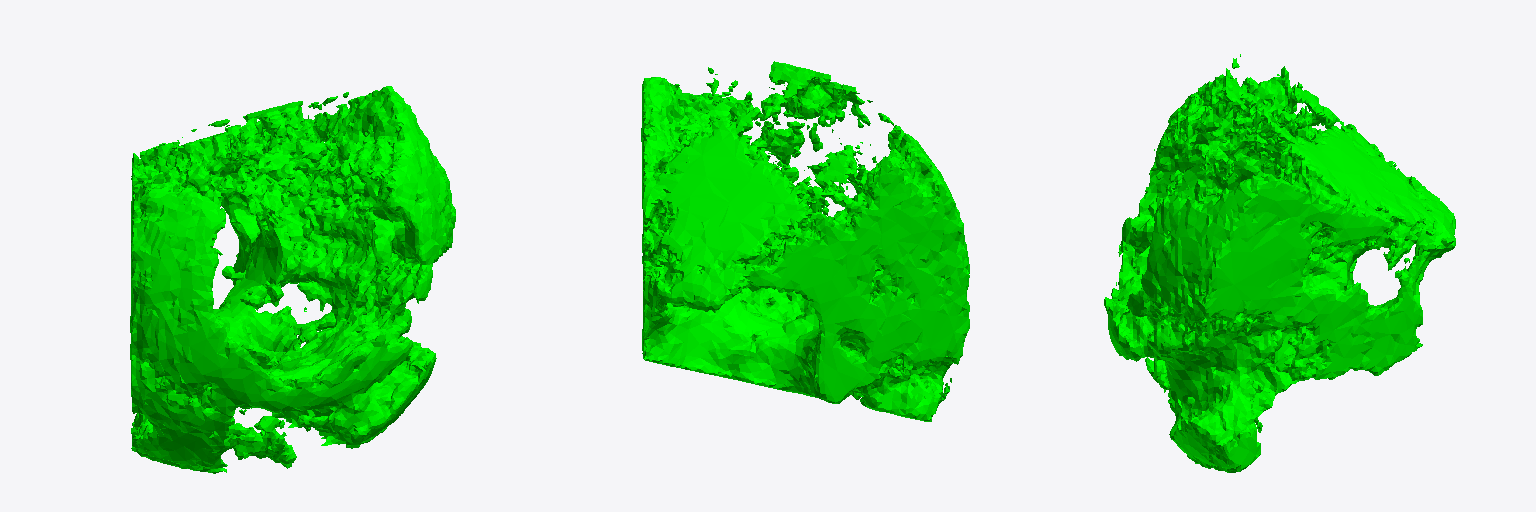
The model's file is B939XXXX-1_base_14.obj.
3 views of the same model, side by side, from view 1: azimuth 30°, elevation 25°; view 2: azimuth 150°, elevation 25°; view 3: azimuth 270°, elevation 25° (orthographic).
Parts seen in each view (by area): view 1: 14_base; view 2: 14_base; view 3: 14_base.
Boxes of the visible parts, x1=… form: 14_base: x1=130, y1=86, x2=455, y2=473; 14_base: x1=641, y1=61, x2=969, y2=421; 14_base: x1=1104, y1=54, x2=1455, y2=472.
Size of the model in its own units: 218 by 218 by 205.